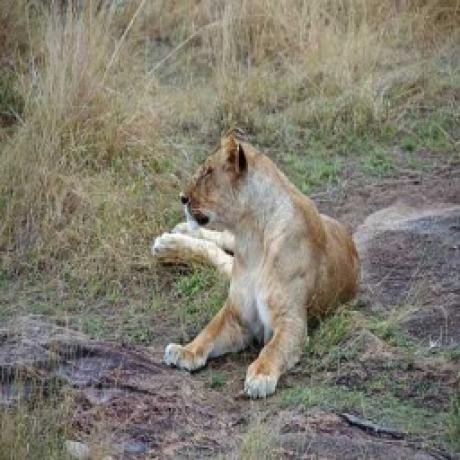Lion: (151, 136, 362, 398)
